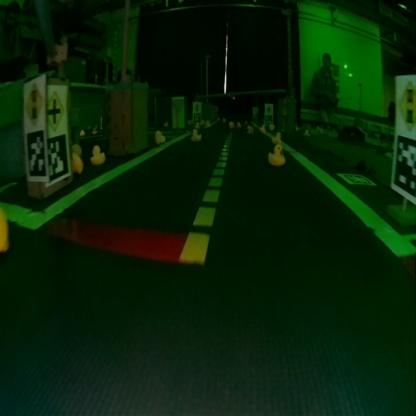Duckie: (268, 144, 284, 165), (90, 145, 106, 164), (72, 154, 83, 174), (154, 130, 165, 143), (190, 128, 201, 140), (272, 133, 280, 142), (228, 121, 234, 129), (247, 124, 252, 132)
Intersection sign: (46, 92, 64, 132), (265, 104, 272, 114)
QR code: (392, 136, 414, 198), (46, 134, 69, 178), (26, 129, 46, 177), (338, 172, 374, 183), (192, 113, 199, 121)
Signal sign: (22, 81, 43, 125), (398, 78, 414, 133), (193, 102, 200, 112)
